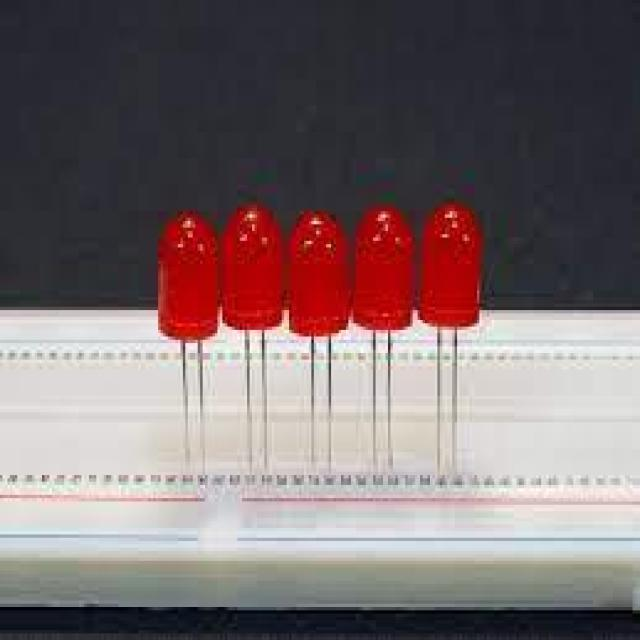Led: (419, 202, 483, 475), (223, 204, 283, 473), (354, 207, 414, 470), (157, 210, 217, 471), (289, 210, 349, 471)
